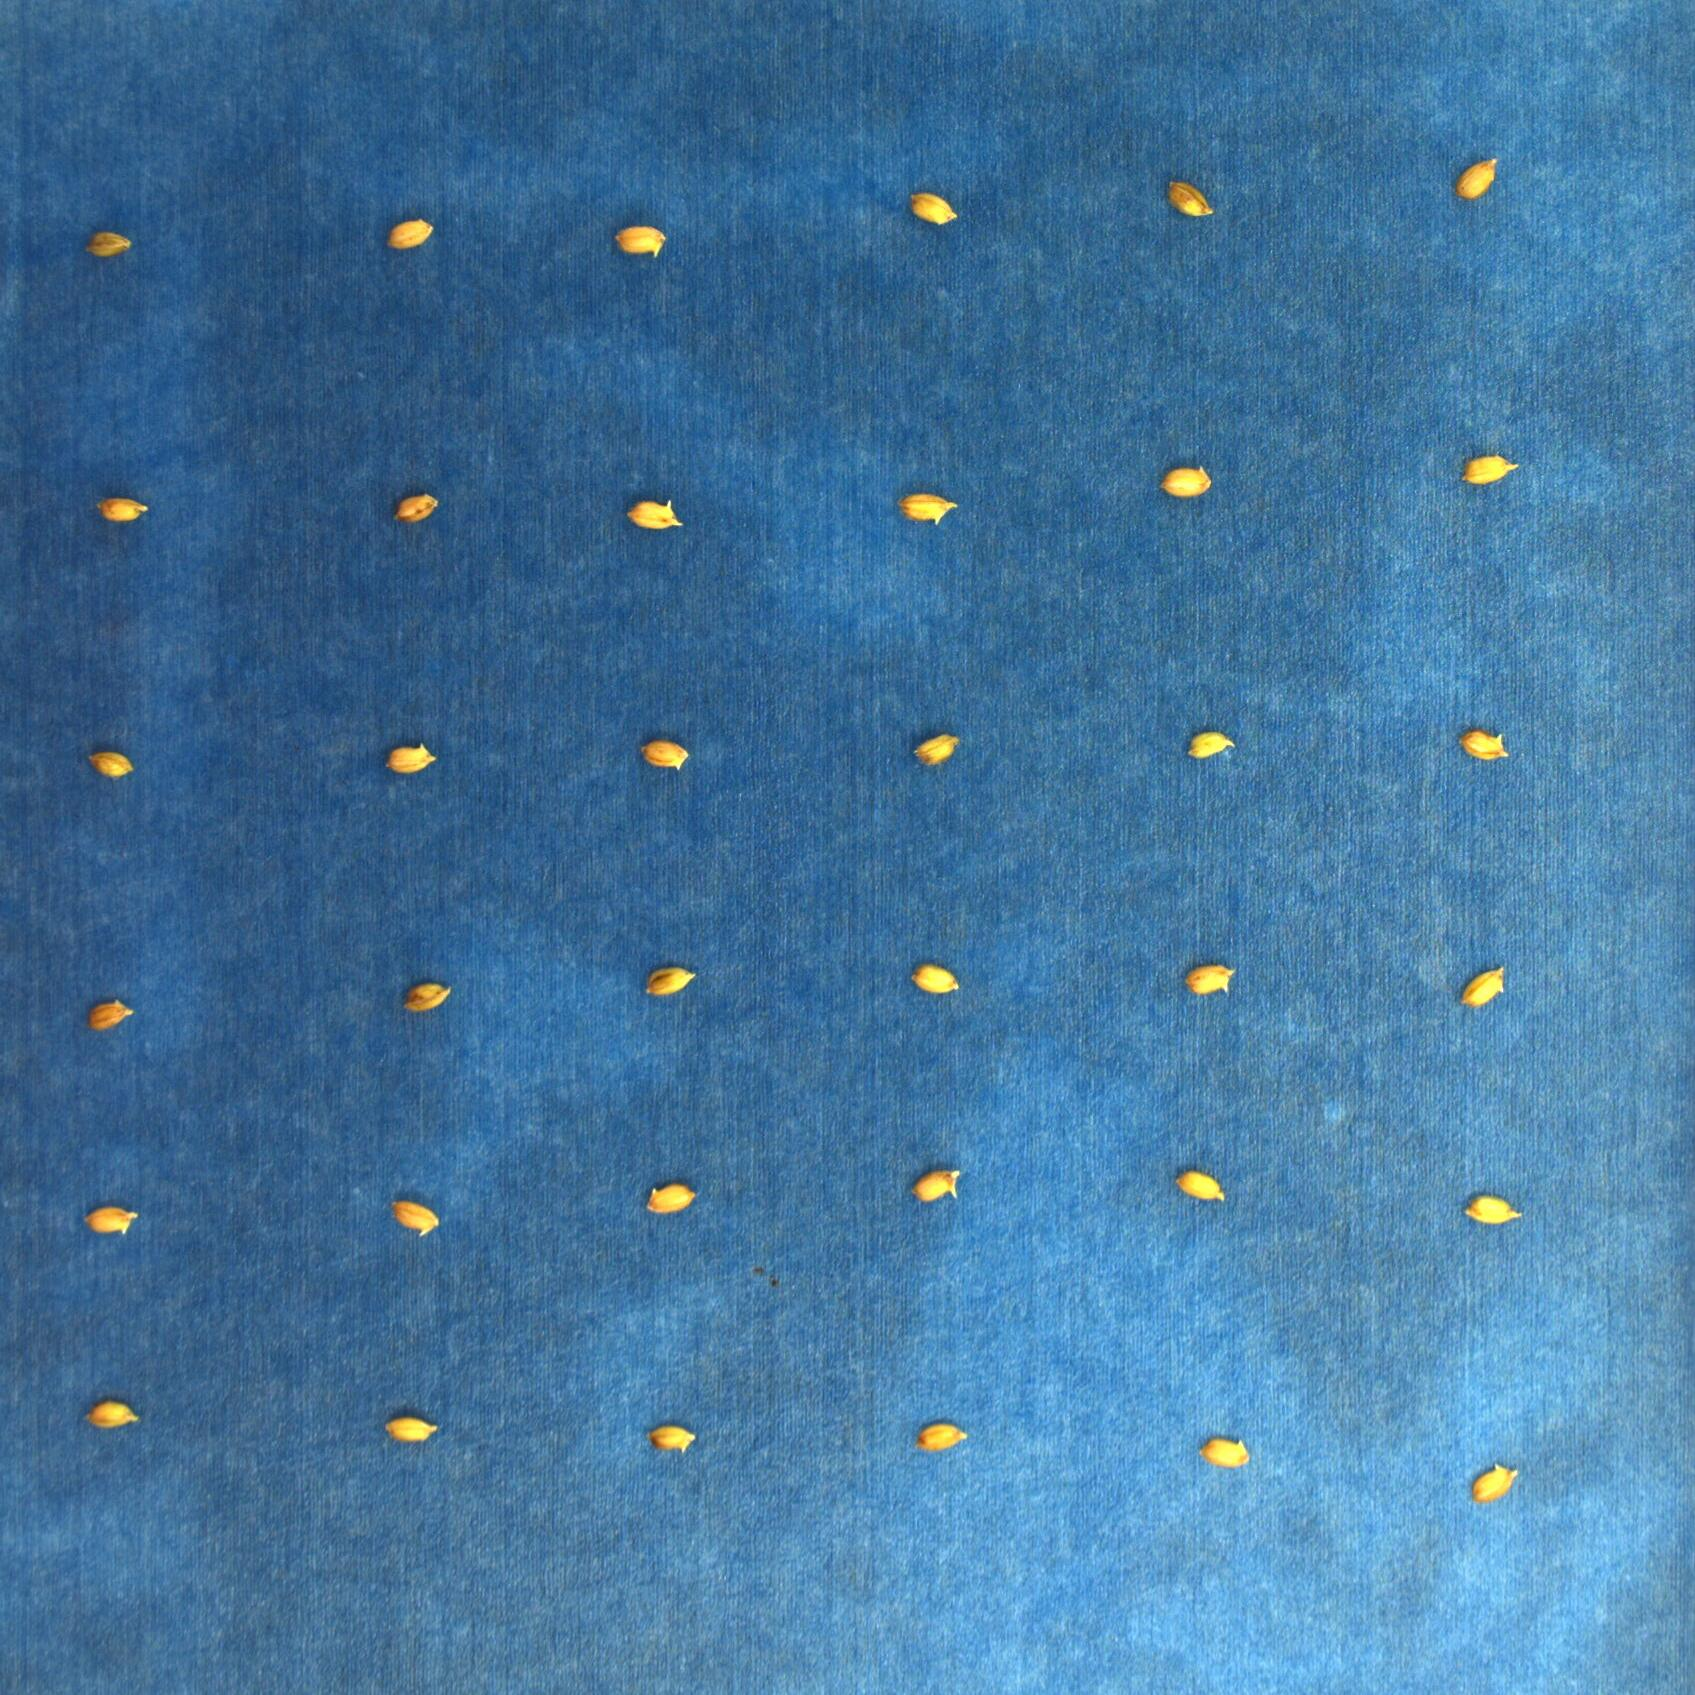not sprout: (390, 1197, 439, 1239), (897, 492, 958, 526), (1175, 1166, 1228, 1205), (910, 1167, 964, 1205), (1461, 453, 1520, 486), (1464, 1194, 1523, 1226), (1454, 157, 1498, 200), (1461, 965, 1506, 1007), (1156, 466, 1212, 498), (1471, 1464, 1516, 1504), (1183, 965, 1240, 997), (1169, 177, 1212, 217), (626, 498, 681, 529), (385, 742, 438, 775), (646, 965, 698, 998), (917, 1419, 970, 1451), (910, 191, 959, 225), (1200, 1433, 1250, 1467), (1459, 726, 1509, 761), (911, 961, 959, 995), (613, 225, 666, 256), (402, 981, 452, 1014), (82, 1397, 140, 1425), (640, 737, 691, 768), (87, 1205, 138, 1236), (390, 494, 438, 526), (649, 1180, 697, 1212), (386, 217, 433, 250), (914, 733, 961, 765), (646, 1423, 698, 1451), (88, 1001, 133, 1034), (386, 1416, 438, 1444), (96, 495, 147, 522), (85, 230, 133, 258), (1187, 731, 1236, 757), (92, 748, 133, 778)
